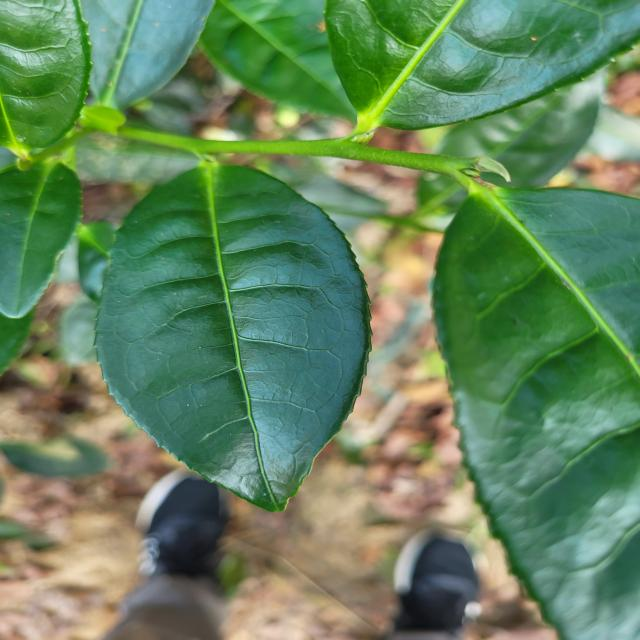Category D(7+ days, Not for Tea): (81, 129, 392, 525)
